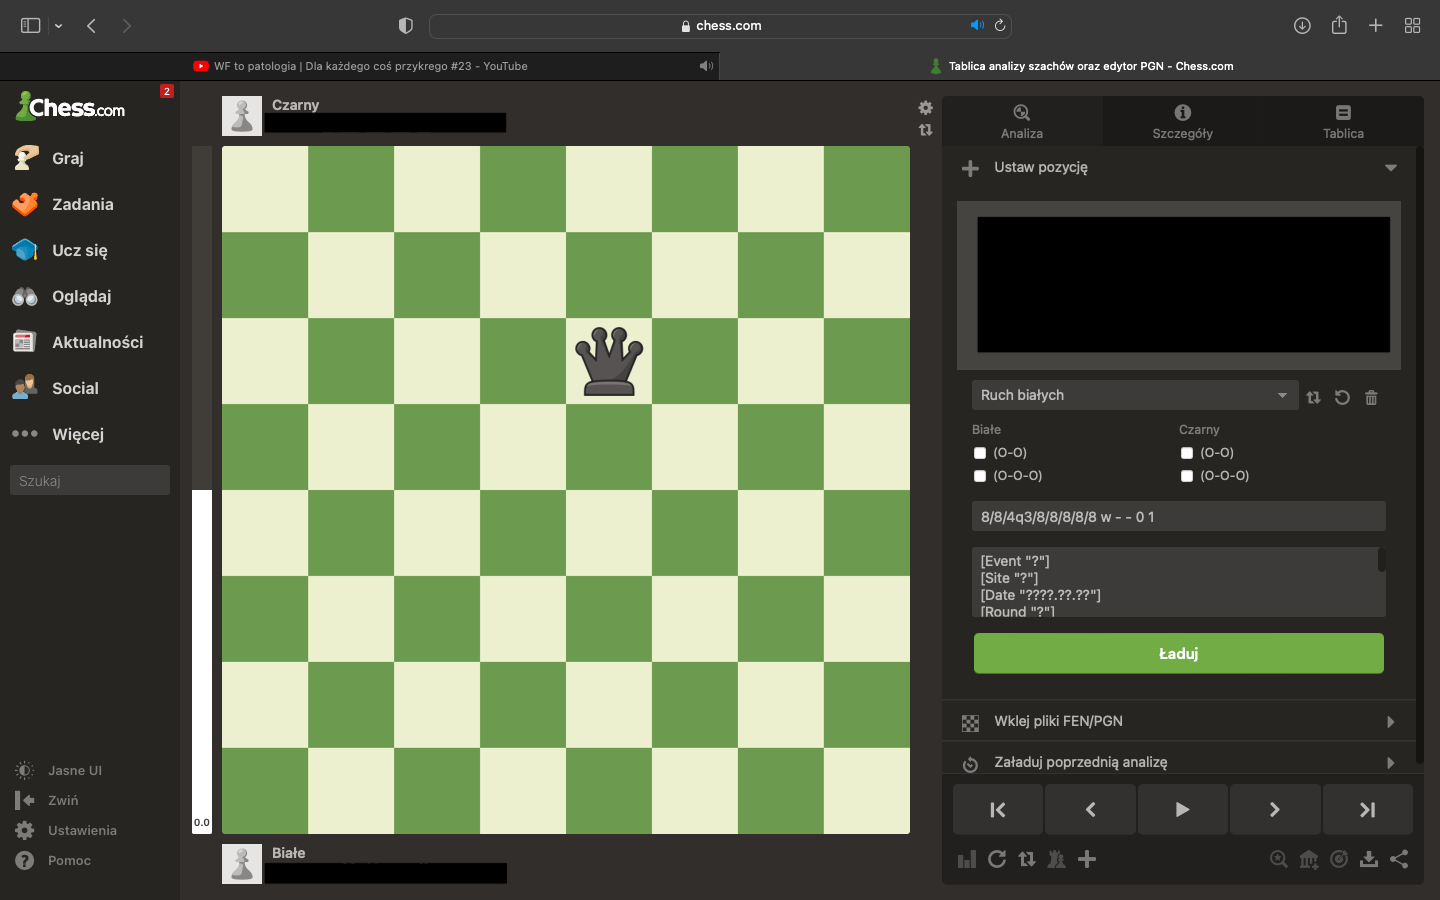black_queen: (575, 326, 644, 397)
